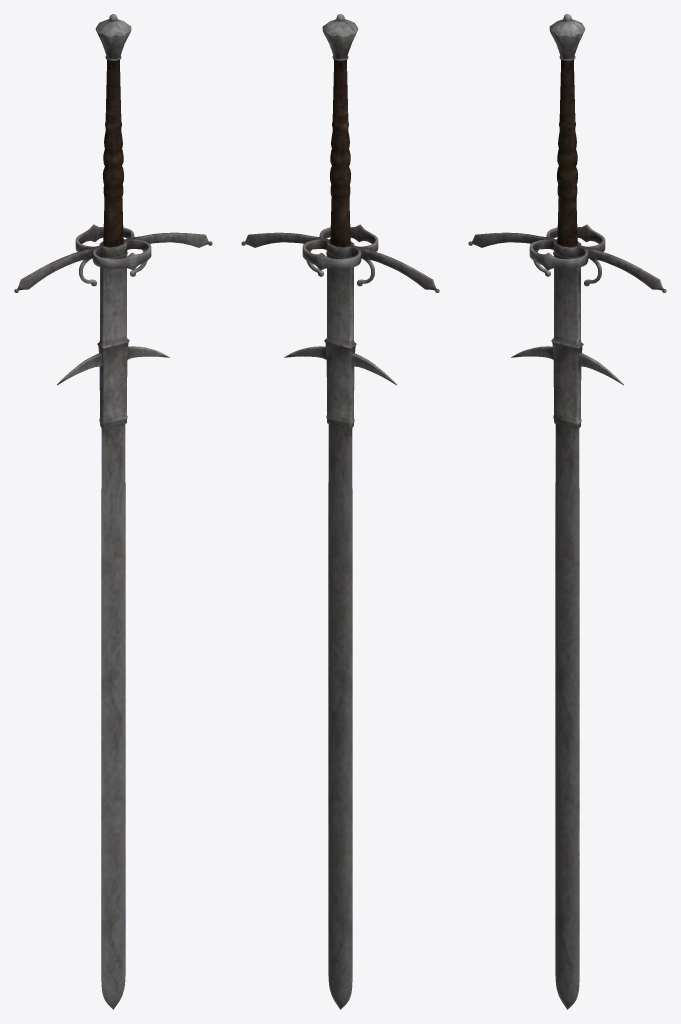
File: weapon-wp_a_0611.glb
3 views of the same model, side by side, from view 1: azimuth 30°, elevation 25°; view 2: azimuth 150°, elevation 25°; view 3: azimuth 330°, elevation 25° (orthographic).
Visible parts, largest first — view 1: wp_a_0611_mesh; view 2: wp_a_0611_mesh; view 3: wp_a_0611_mesh.
Part boxes in pixels (box(x1,y1,x2,y2)): wp_a_0611_mesh: box(14, 14, 212, 1009); wp_a_0611_mesh: box(241, 14, 439, 1009); wp_a_0611_mesh: box(468, 14, 666, 1009).
Size of the model in its own units: 0.4524 by 2.18 by 0.1589.
Materials: 1 (1 with a texture image).
